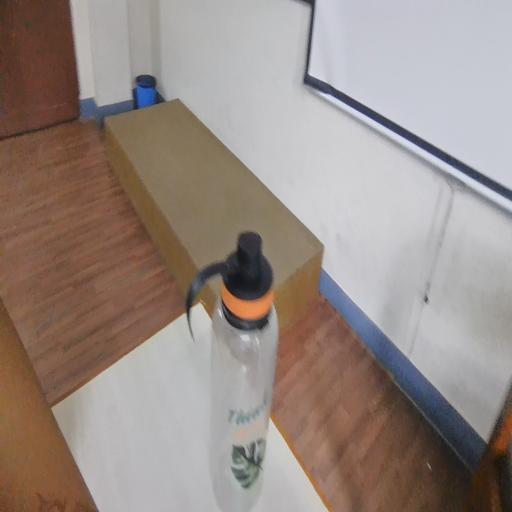Bottle: (200, 222, 296, 512)
